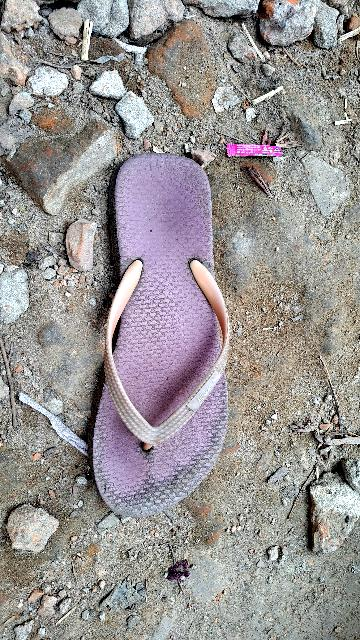sandal: (80, 140, 248, 537)
